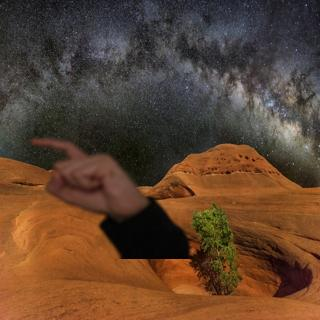WHY: (23, 130, 143, 216)
